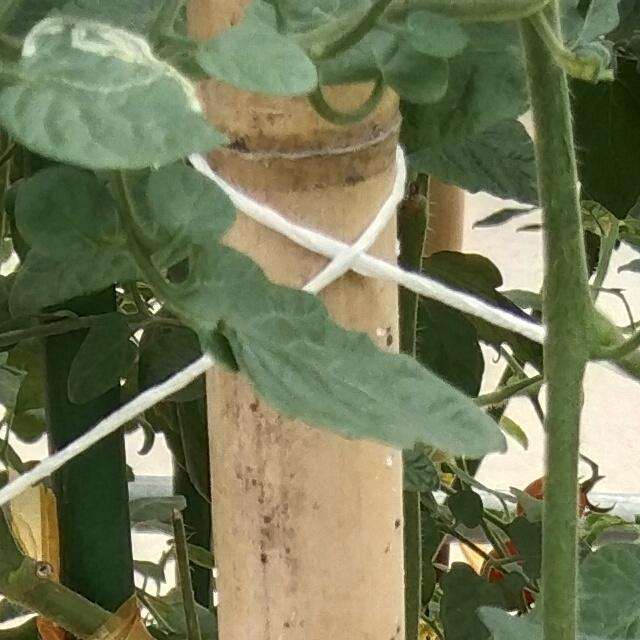Healthy: (182, 235, 513, 460), (195, 21, 318, 97)
Leaf_Miner: (0, 10, 240, 172)
